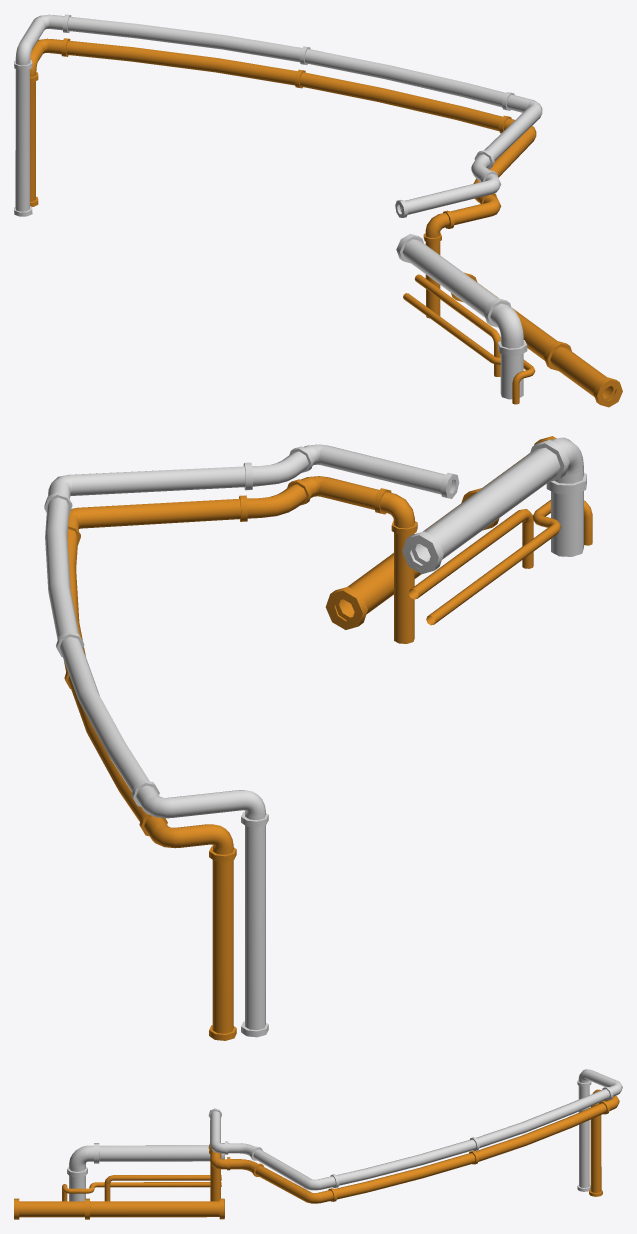
Rendered from SM_H_Building_Tide_Waterway_09a_ATLAS.fbx.
The picture shows the model from 3 angles, top to bottom: view 1: azimuth 30°, elevation 25°; view 2: azimuth 150°, elevation 25°; view 3: azimuth 270°, elevation 25°; orthographic projection. The views are drawn at different scales.
Parts seen in each view (by area): view 1: SM_H_Building_Tide_Waterway_09a_ATLAS; view 2: SM_H_Building_Tide_Waterway_09a_ATLAS; view 3: SM_H_Building_Tide_Waterway_09a_ATLAS.
Part boxes in pixels (bbox=[...]): SM_H_Building_Tide_Waterway_09a_ATLAS: bbox=[14, 14, 622, 407]; SM_H_Building_Tide_Waterway_09a_ATLAS: bbox=[44, 436, 592, 1040]; SM_H_Building_Tide_Waterway_09a_ATLAS: bbox=[14, 1069, 622, 1219].
Bounding box in the file's own units: 938 × 2046 × 458.
